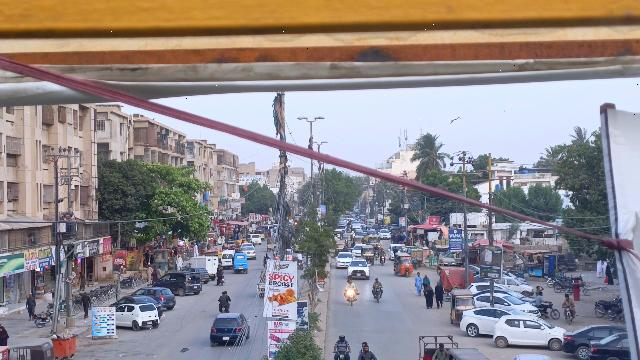Bike: (534, 301, 559, 318), (563, 306, 576, 324), (346, 288, 357, 307), (373, 286, 382, 304), (336, 350, 349, 360), (217, 274, 226, 286), (219, 303, 228, 314)
Car: (491, 313, 567, 352), (560, 320, 622, 359), (458, 306, 513, 338), (206, 310, 251, 347), (586, 329, 629, 360), (154, 270, 203, 296), (114, 303, 161, 329), (136, 285, 177, 310), (111, 295, 164, 308), (346, 258, 373, 281)
Cart: (414, 332, 457, 360)
Person: (421, 281, 435, 311), (24, 290, 37, 320), (432, 280, 445, 309), (332, 332, 351, 351), (79, 290, 91, 320), (432, 342, 449, 360), (358, 346, 376, 360), (413, 271, 423, 296), (535, 291, 548, 310), (562, 293, 575, 307), (217, 290, 229, 303), (421, 273, 431, 286), (372, 276, 382, 288), (346, 277, 355, 290), (215, 264, 220, 285), (220, 266, 224, 275)
Rickshaw: (448, 289, 474, 324), (230, 252, 249, 275)
Truck: (188, 255, 219, 276)
